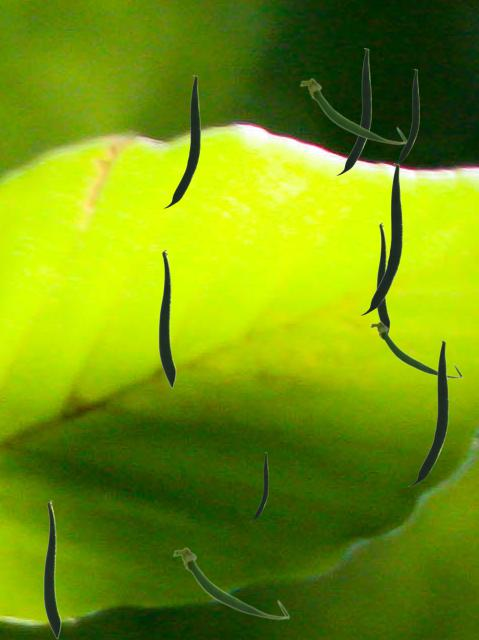french_bean: (172, 546, 289, 619), (299, 77, 406, 144), (360, 163, 401, 314), (408, 340, 447, 485), (369, 320, 462, 378), (163, 75, 199, 207), (336, 48, 370, 174), (43, 500, 60, 638), (158, 249, 175, 387), (394, 69, 418, 163), (376, 222, 389, 332), (251, 452, 267, 520)
